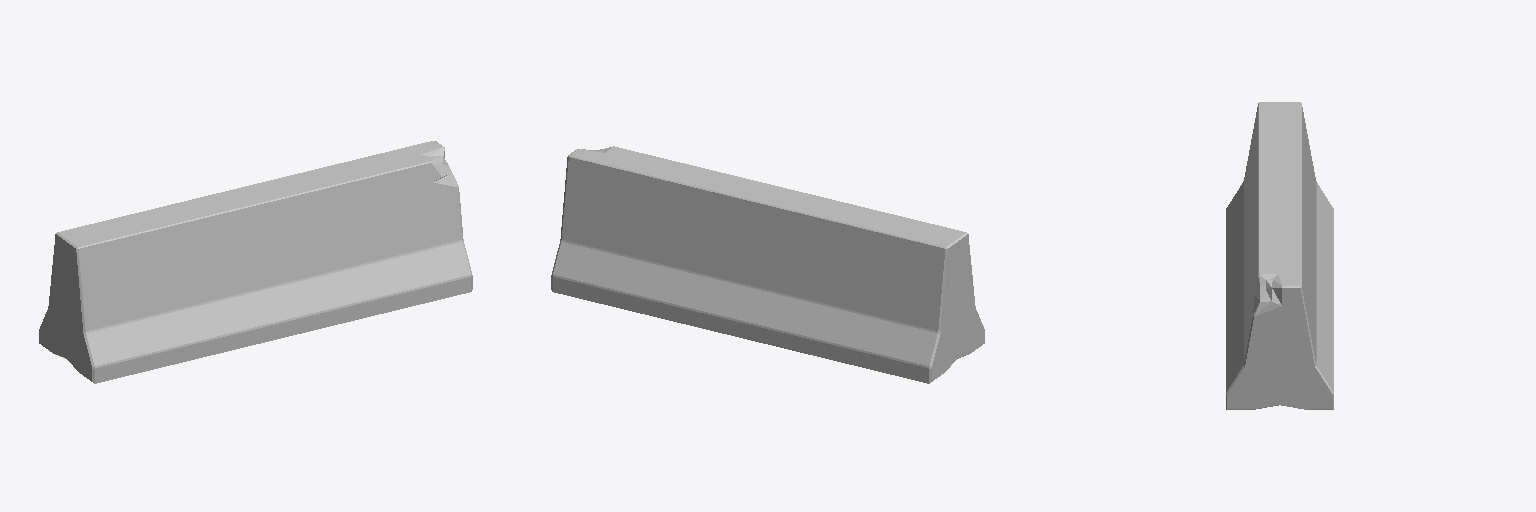
File: barrierD.obj
3 renders of one model, left to right at view 1: azimuth 30°, elevation 25°; view 2: azimuth 150°, elevation 25°; view 3: azimuth 270°, elevation 25°, orthographic.
Visible parts, largest first — view 1: barrier_Cube.001; view 2: barrier_Cube.001; view 3: barrier_Cube.001.
Part boxes in pixels (x1,y1,x2,y2): barrier_Cube.001: (39, 141, 472, 383); barrier_Cube.001: (551, 146, 984, 383); barrier_Cube.001: (1226, 102, 1333, 409).
Size of the model in its own units: 2.58 by 0.8066 by 0.64.